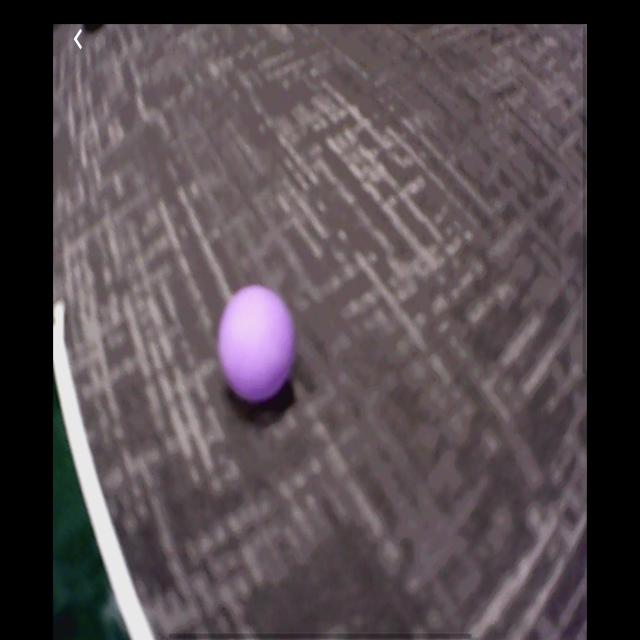ball: (217, 284, 297, 406)
